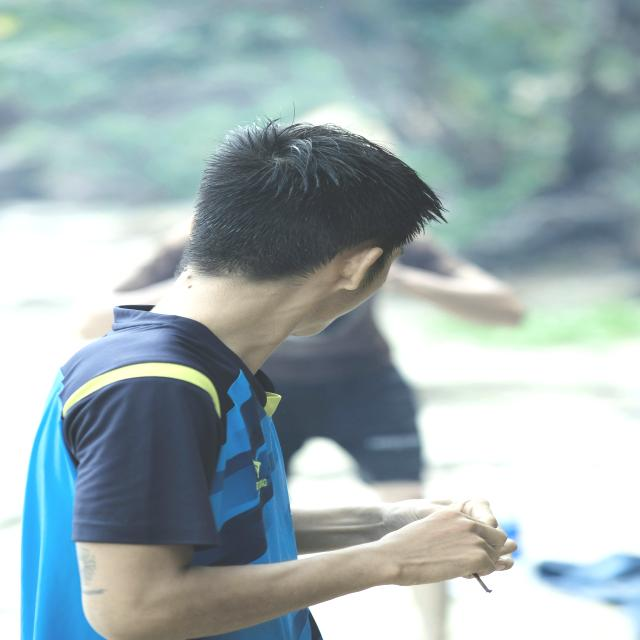piel: (74, 496, 518, 640), (147, 244, 404, 376)
